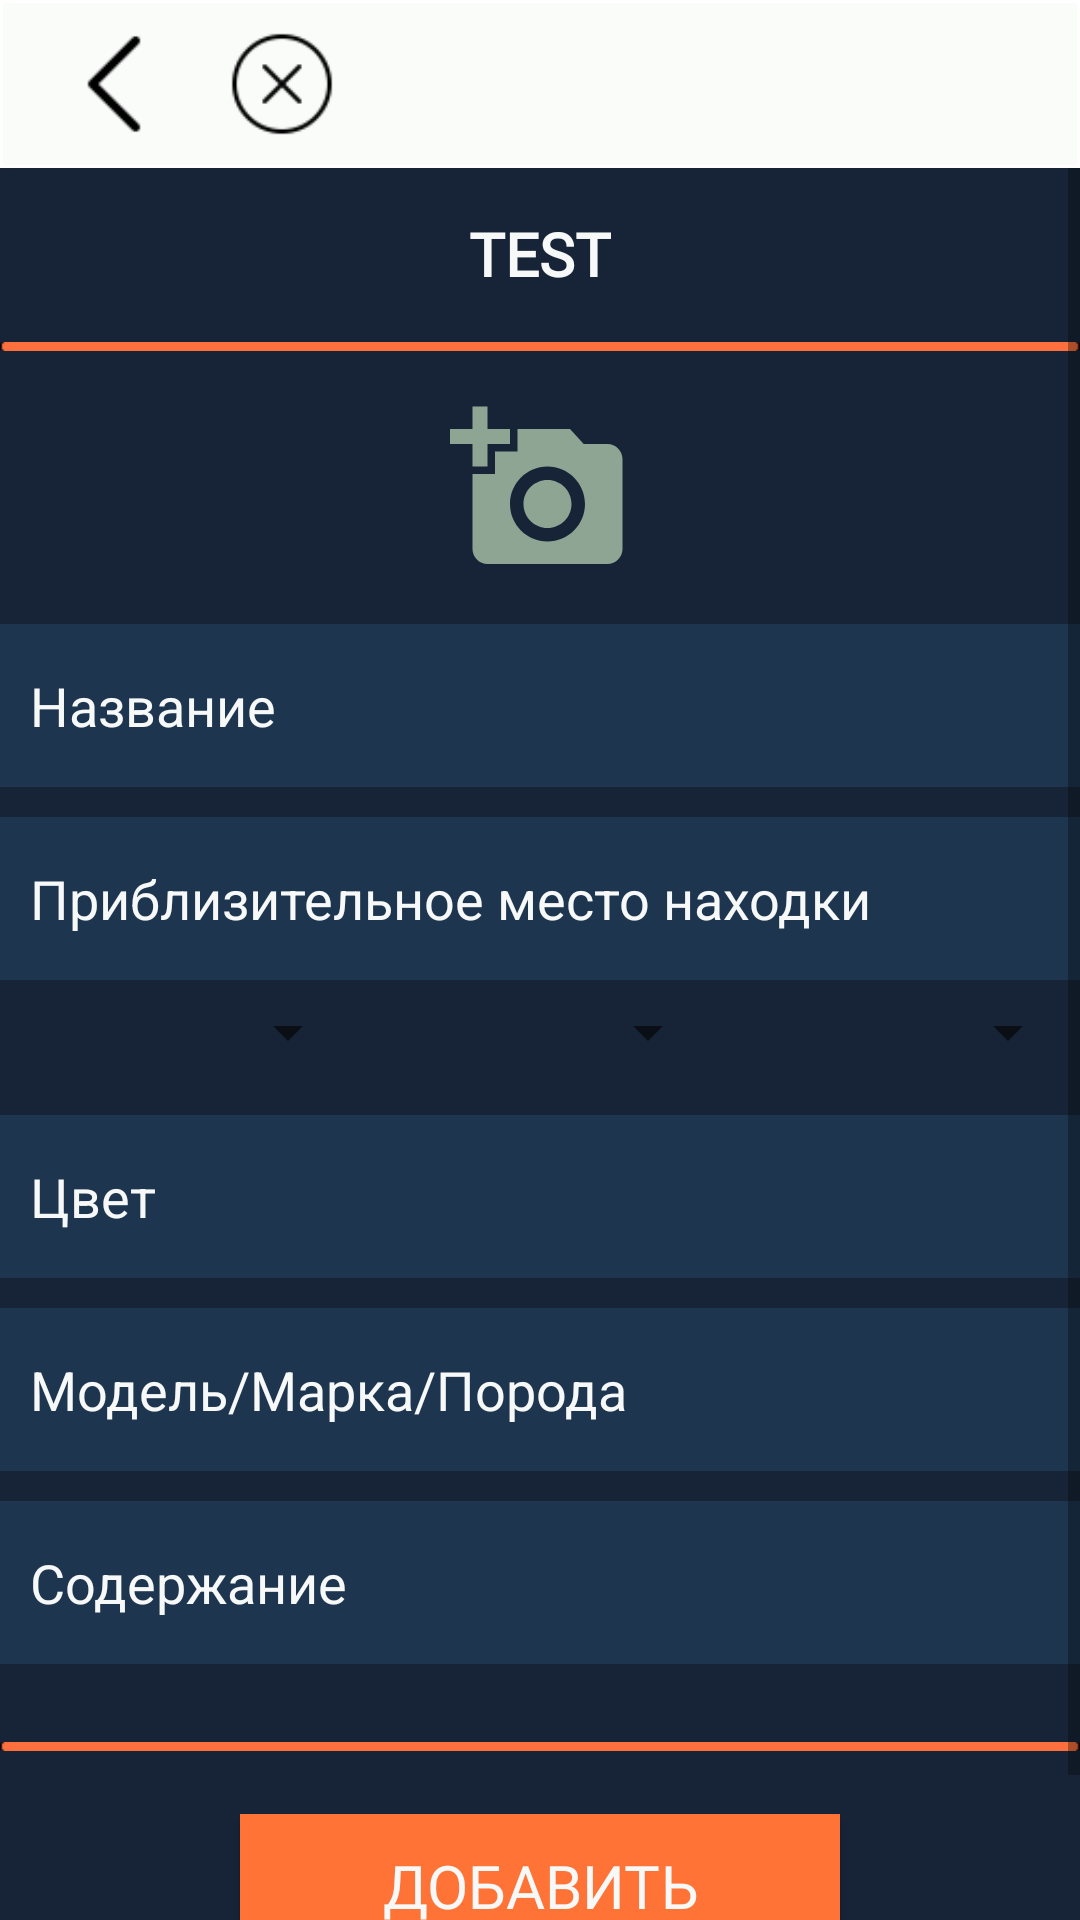

Icon bounding boxes for this 1080w x 1920h phone screenshot, format (x1, y1, x2, y2):
add photo: (450, 406, 623, 564)
close: (231, 33, 333, 135)
searchwallet back: (87, 36, 141, 132)
